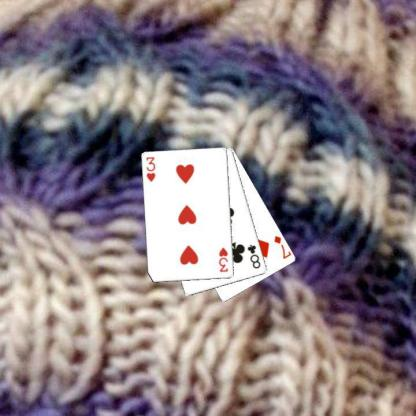3H: (217, 245, 229, 273), (144, 155, 156, 183)
7D: (272, 233, 292, 260)
8C: (245, 242, 262, 270)
